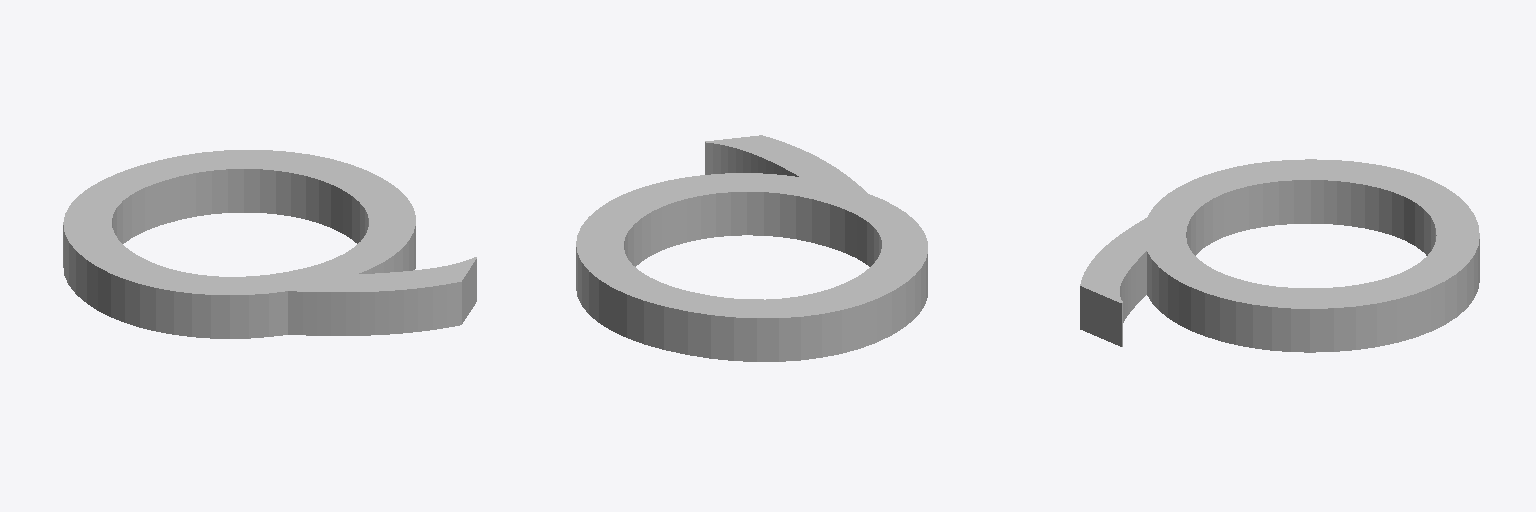
The model's file is morse_letter.obj.
3 views of the same model, side by side, from view 1: azimuth 30°, elevation 25°; view 2: azimuth 150°, elevation 25°; view 3: azimuth 270°, elevation 25° (orthographic).
Visible parts, largest first — view 1: Text; view 2: Text; view 3: Text.
Boxes of the visible parts, box(x1,y1,x2,y2) form: Text: box(63, 150, 476, 338); Text: box(576, 135, 927, 361); Text: box(1080, 159, 1479, 352).
Size of the model in its own units: 0.735 by 0.1 by 0.83.